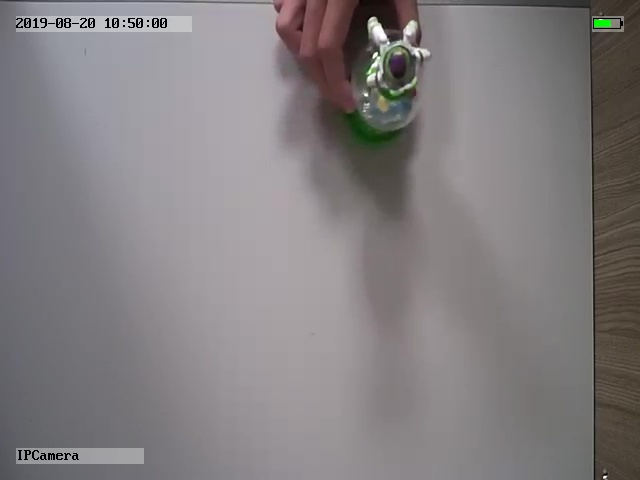buzz: (347, 15, 432, 142)
